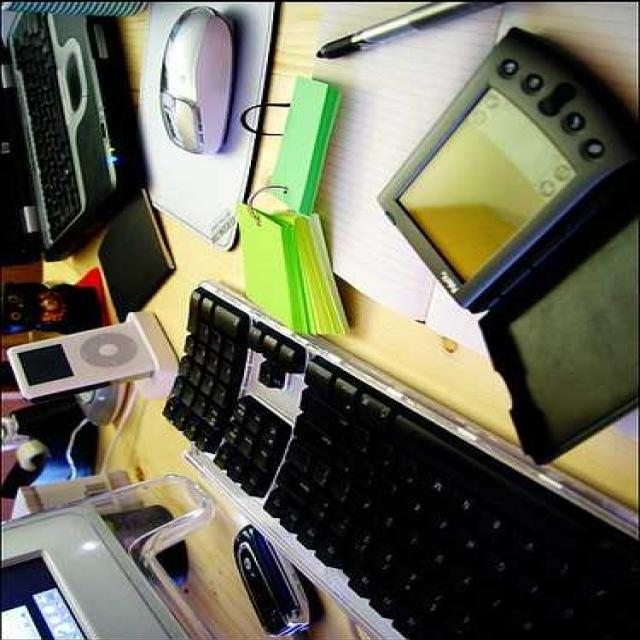laptop: (2, 3, 139, 266)
